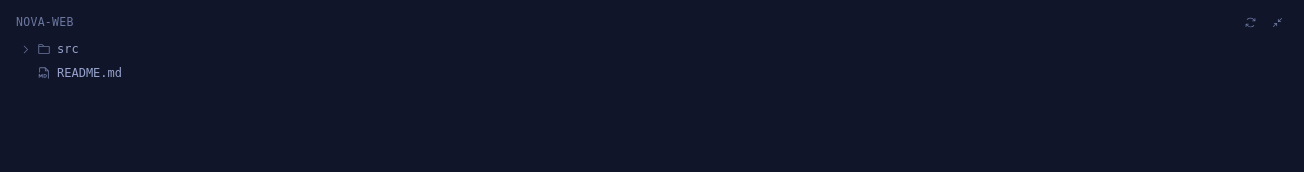
Scenario: ExplorerPanel — the tree › says when an expanded folder is empty
The image size is (1304, 172).
Expected: the text "README.md" is shown, 57,64 -> 122,82
Click the button "src". click: (26,49)
box: 12,37 -> 1292,61
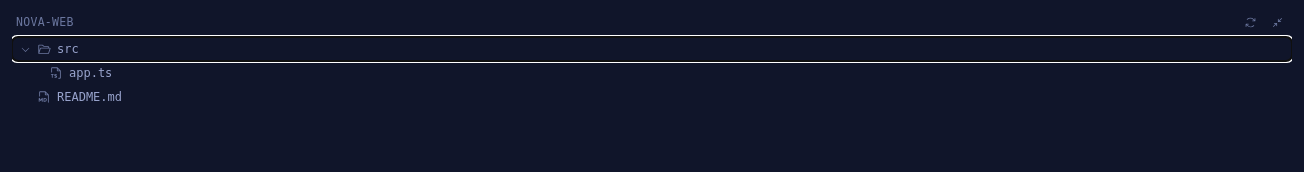
Result: the text "app.ts" is shown at 69,64 -> 112,82
Click the button named "Refresh the tree". click: (1250,22)
box: 1240,12 -> 1261,33
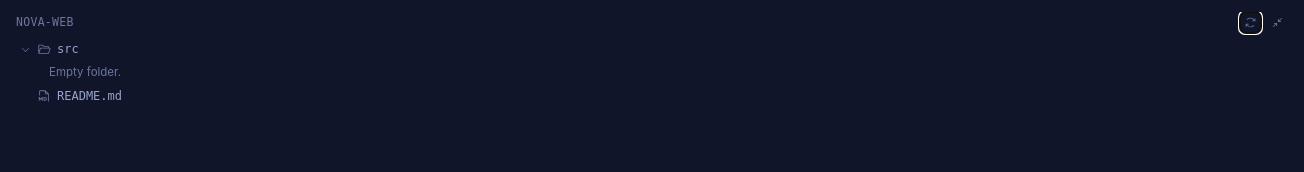
Result: the text "Empty folder." is shown at 49,65 -> 121,79
